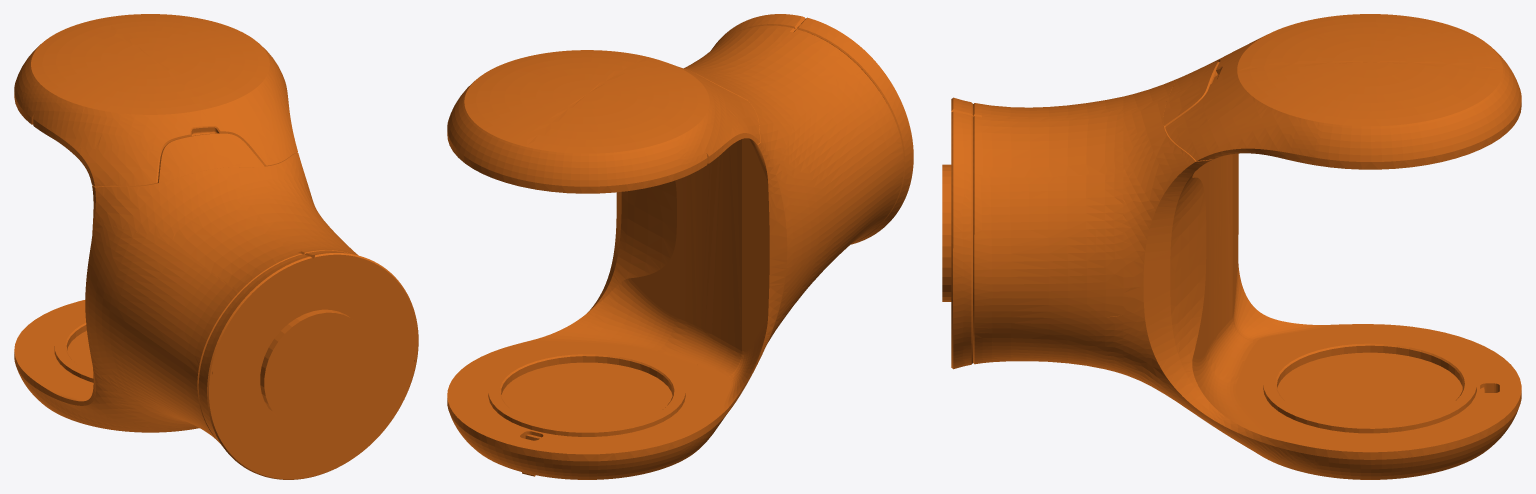
3 renders of one model, left to right at view 1: azimuth 30°, elevation 25°; view 2: azimuth 150°, elevation 25°; view 3: azimuth 270°, elevation 25°, orthographic. The views are drawn at different scales.
Parts seen in each view (by area): view 1: AR5-5_08L-W4C4A6-ZY2_link4; view 2: AR5-5_08L-W4C4A6-ZY2_link4; view 3: AR5-5_08L-W4C4A6-ZY2_link4.
Part boxes in pixels (x1=…): AR5-5_08L-W4C4A6-ZY2_link4: x1=14, y1=14, x2=418, y2=479; AR5-5_08L-W4C4A6-ZY2_link4: x1=447, y1=14, x2=913, y2=479; AR5-5_08L-W4C4A6-ZY2_link4: x1=942, y1=14, x2=1521, y2=479.
Size of the model in its own units: 0.1058 by 0.1335 by 0.1896.
